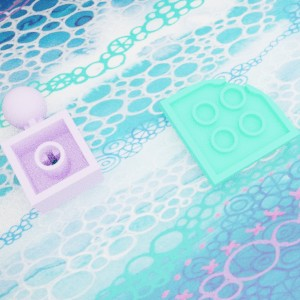lego: (159, 78, 300, 188), (0, 86, 104, 214)
